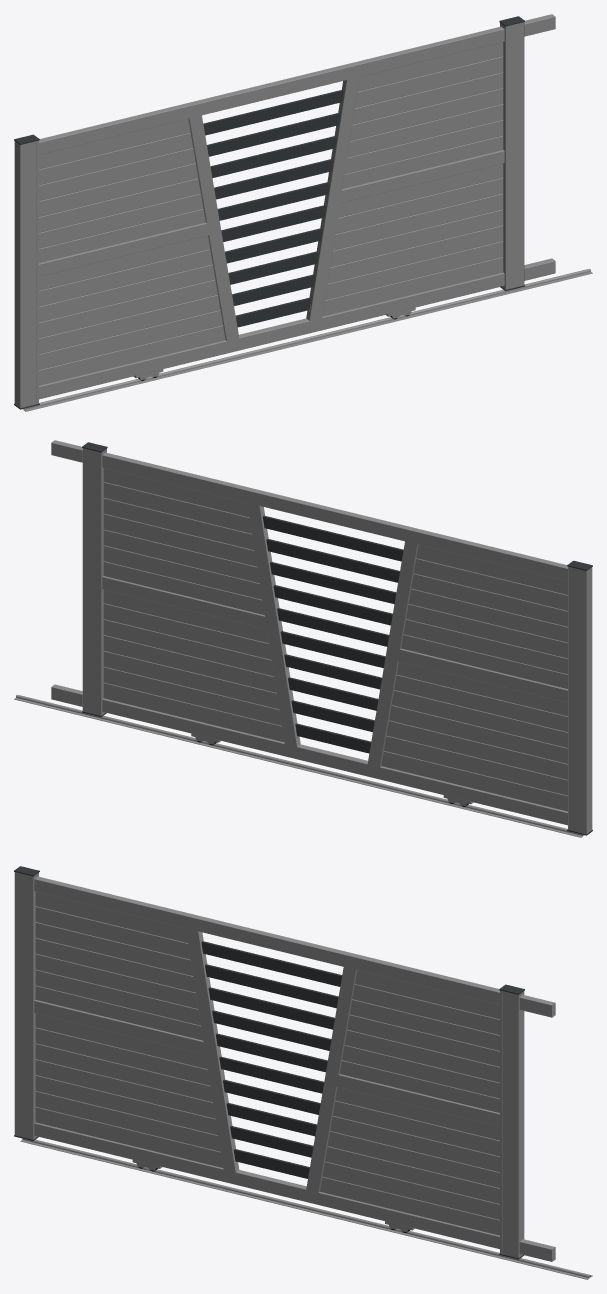
3 renders of one model, top to bottom at view 1: azimuth 30°, elevation 25°; view 2: azimuth 150°, elevation 25°; view 3: azimuth 330°, elevation 25°, orthographic.
Visible parts, largest first — view 1: Plane004, Shape107411810, Shape107411809, Shape107412643, Shape107413021, Shape107413005, Rail, Shape332, Line073, Line072, Line071, Line087 (+26 smaller); view 2: Plane004, Shape107411810, Shape107411809, Shape107412643, Shape107413021, Shape107413005, Rail, Shape332, Line073, Line072, Line087, Line071 (+26 smaller); view 3: Plane004, Shape107411810, Shape107411809, Shape107413021, Shape107412643, Shape332, Rail, Shape107413005, Line073, Line072, Line071, Line070 (+26 smaller).
Part boxes in pixels (box(x1,y1,x2,y2)): Plane004: box(203, 89, 343, 327); Shape107411810: box(39, 14, 555, 154); Shape107411809: box(39, 258, 555, 399); Shape107412643: box(14, 140, 38, 408); Shape107413021: box(500, 22, 524, 289); Shape107413005: box(306, 74, 359, 327); Rail: box(22, 269, 592, 411); Shape332: box(188, 111, 240, 349); Line073: box(39, 325, 225, 385); Line072: box(39, 310, 222, 369); Line071: box(39, 295, 220, 354); Line087: box(308, 257, 503, 316); Plane004: box(263, 515, 403, 753); Shape107411810: box(51, 440, 567, 580); Shape107411809: box(51, 684, 567, 825); Shape107412643: box(568, 566, 592, 834); Shape107413021: box(82, 448, 106, 715); Shape107413005: box(247, 503, 300, 746); Rail: box(14, 695, 583, 837); Shape332: box(367, 541, 418, 767); Line073: box(381, 751, 567, 811); Line072: box(384, 736, 567, 795); Line087: box(103, 682, 298, 742); Line071: box(386, 720, 567, 779); Plane004: box(201, 941, 342, 1178); Shape107411810: box(34, 876, 555, 1017); Shape107411809: box(34, 1122, 555, 1261); Shape107413021: box(500, 990, 524, 1257); Shape107412643: box(14, 872, 38, 1139); Shape332: box(185, 926, 239, 1179); Rail: box(20, 1138, 592, 1279); Shape107413005: box(305, 963, 357, 1200); Line073: box(35, 1107, 236, 1167); Line072: box(35, 1091, 220, 1151); Line071: box(35, 1075, 217, 1135); Line070: box(35, 1059, 215, 1118).
Size of the model in its own units: 3638 by 1636 by 70.
7 materials, 3 textured.
